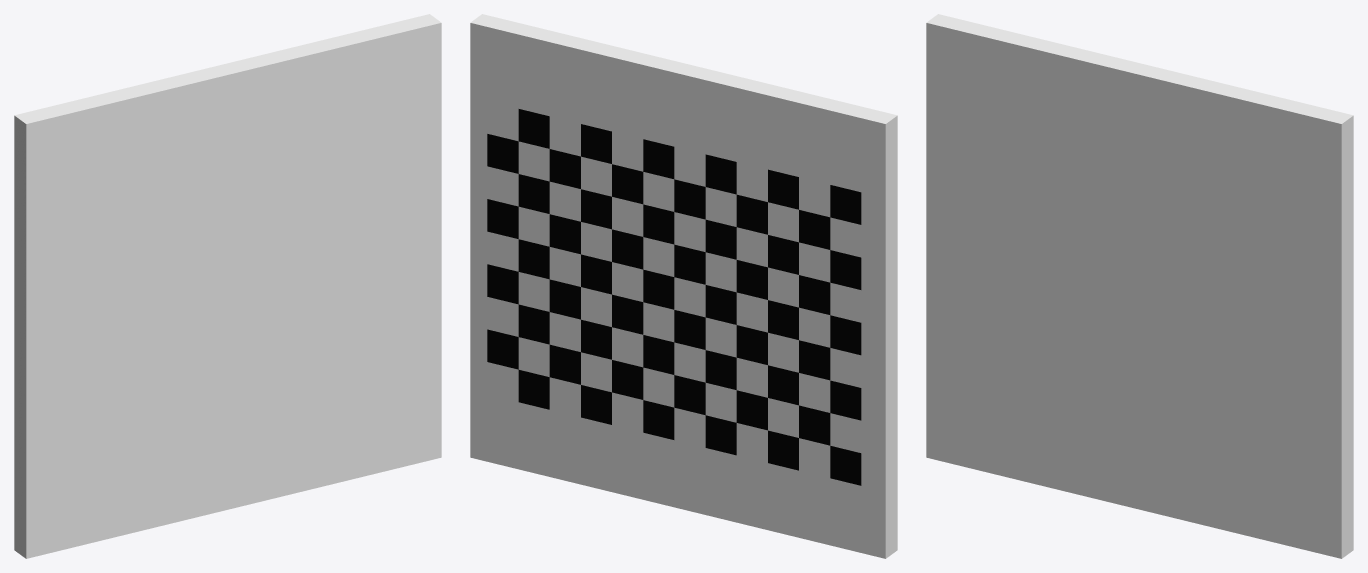
File: calibration_panda.obj
3 renders of one model, left to right at view 1: azimuth 30°, elevation 25°; view 2: azimuth 150°, elevation 25°; view 3: azimuth 330°, elevation 25°, orthographic.
Visible parts, largest first — view 1: Cube_Cube.001; view 2: Cube_Cube.001; view 3: Cube_Cube.001.
Boxes of the visible parts, <box> form: Cube_Cube.001: <box>14,14,441,558</box>; Cube_Cube.001: <box>470,14,897,558</box>; Cube_Cube.001: <box>926,14,1353,558</box>.
Bounding box in the file's own units: 0.2 × 0.2 × 0.013.
1 material, 1 textured.
